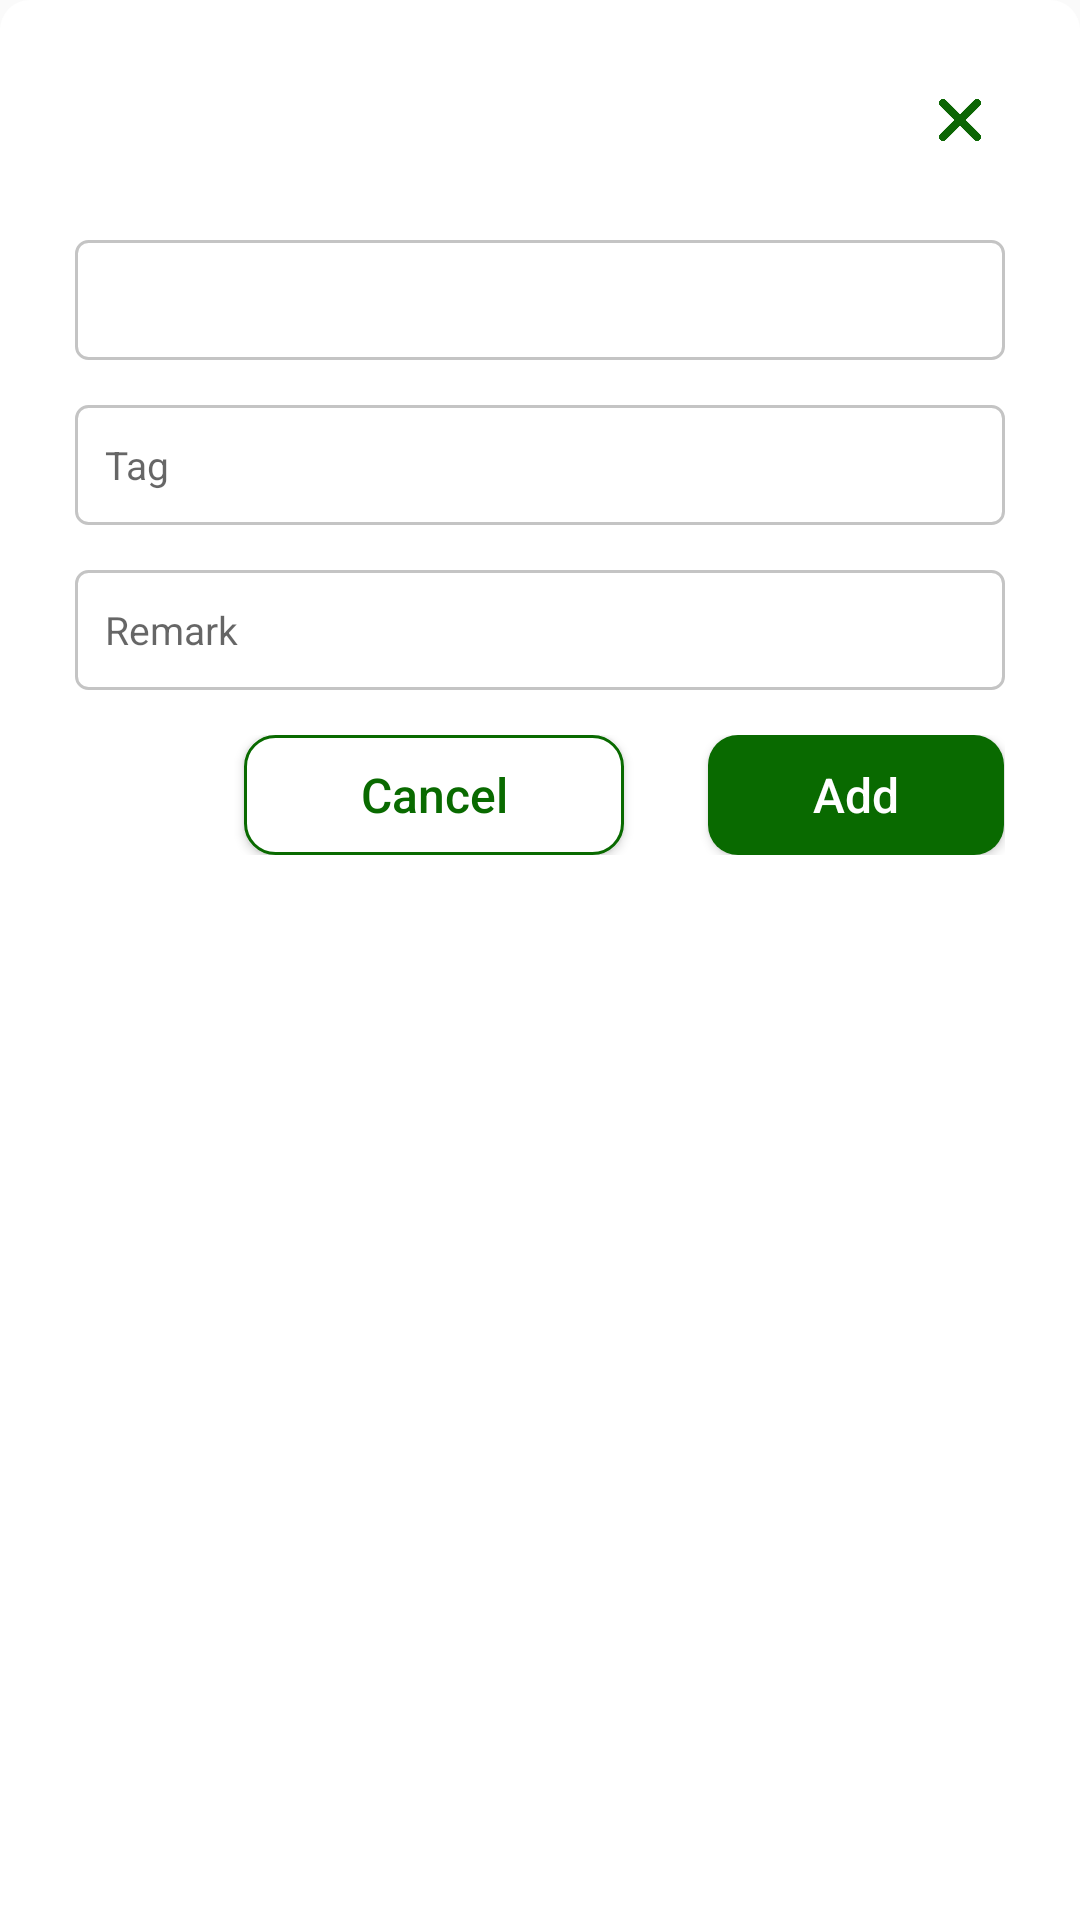

Icon click points for this 1080w x 1920h phone screenshot, format point (x, y):
cross: point (960, 120)
